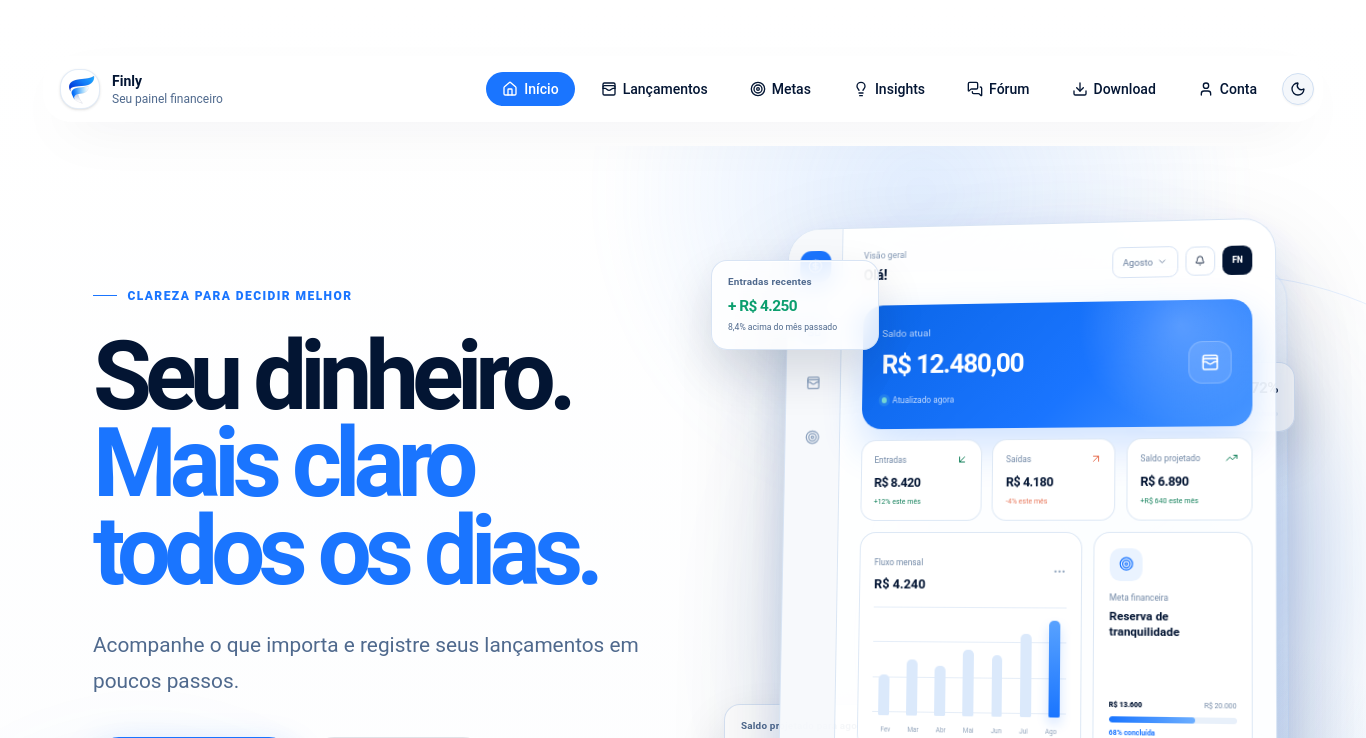
Test: HomePage › deve abrir o login diretamente pela view de conta
Click the button "Conta" at (1227, 89), box [1181,71,1274,107]
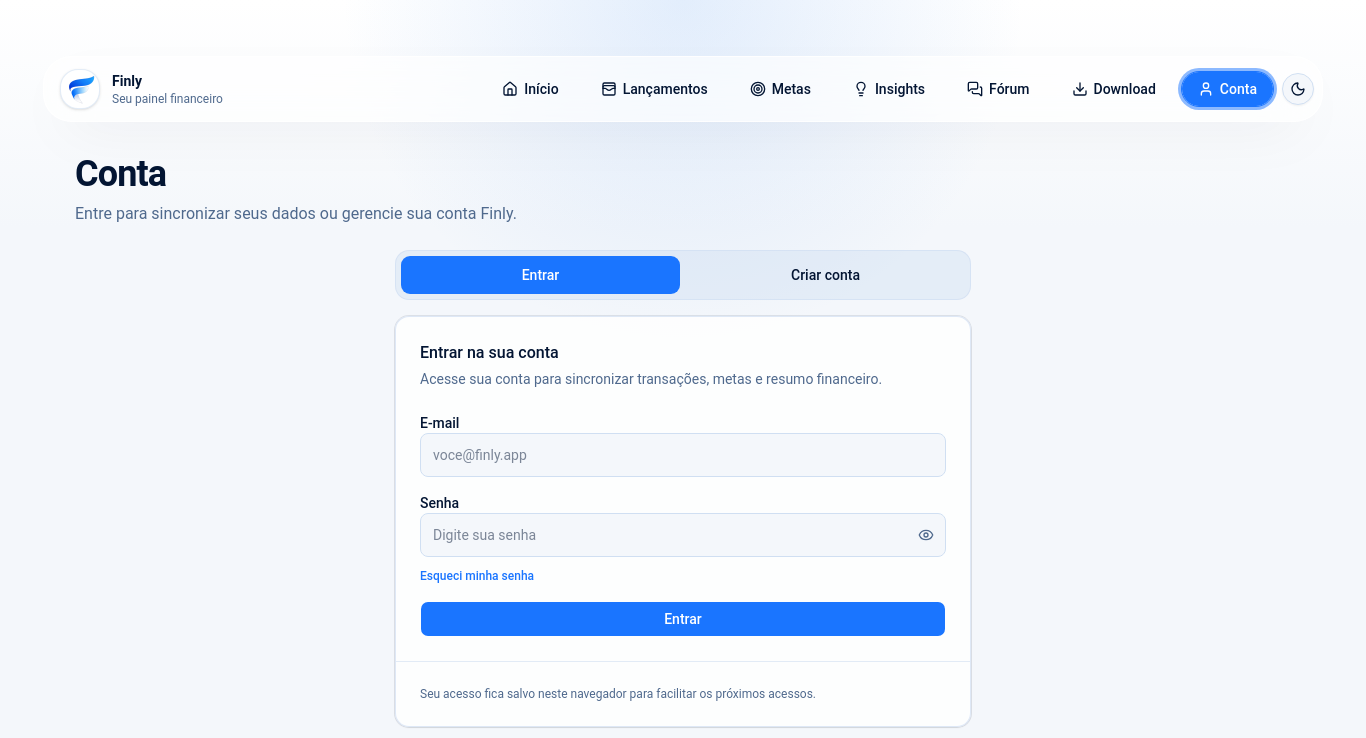
Check: the text "Entrar na sua conta" is shown, box [420,343,559,362]
